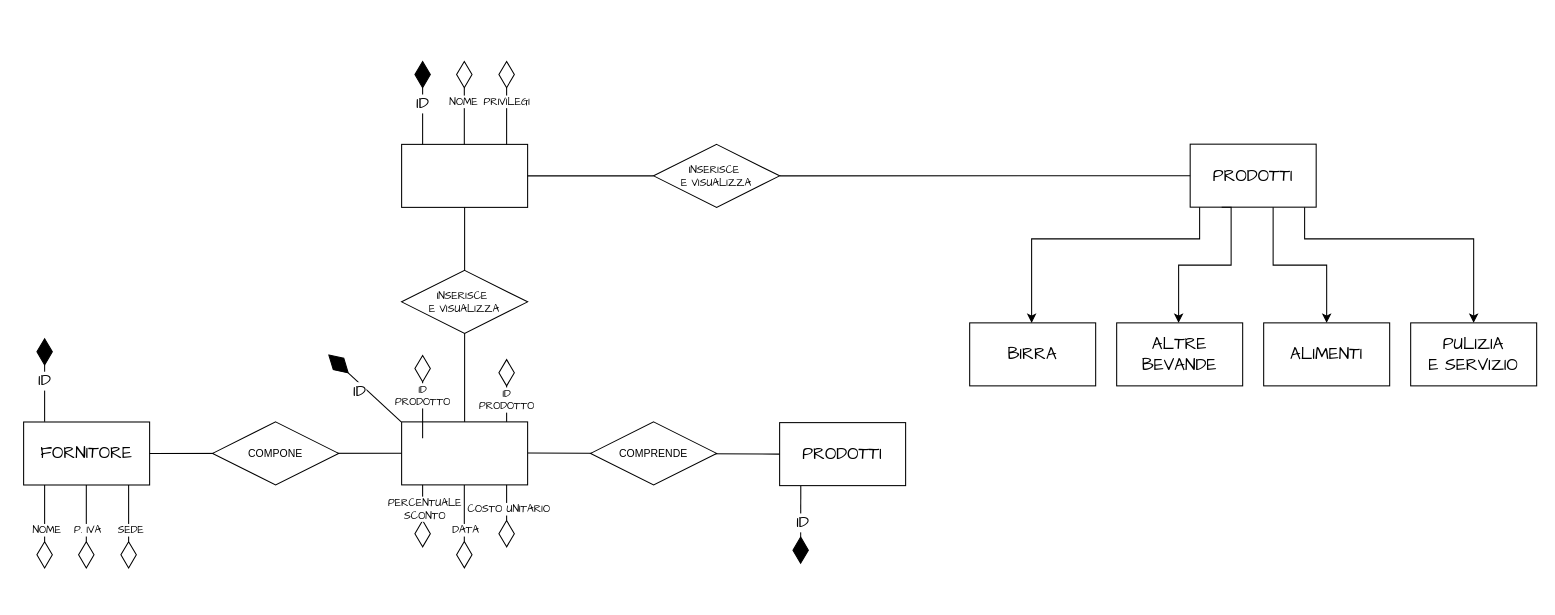
This 1555x615 diagram has some shape labels left out. The box of each missing label's shape, as (x1, y1, x2, y2) in pixels:
CONSEGNA: (401, 421, 528, 485)
UTENTE: (401, 143, 528, 207)
